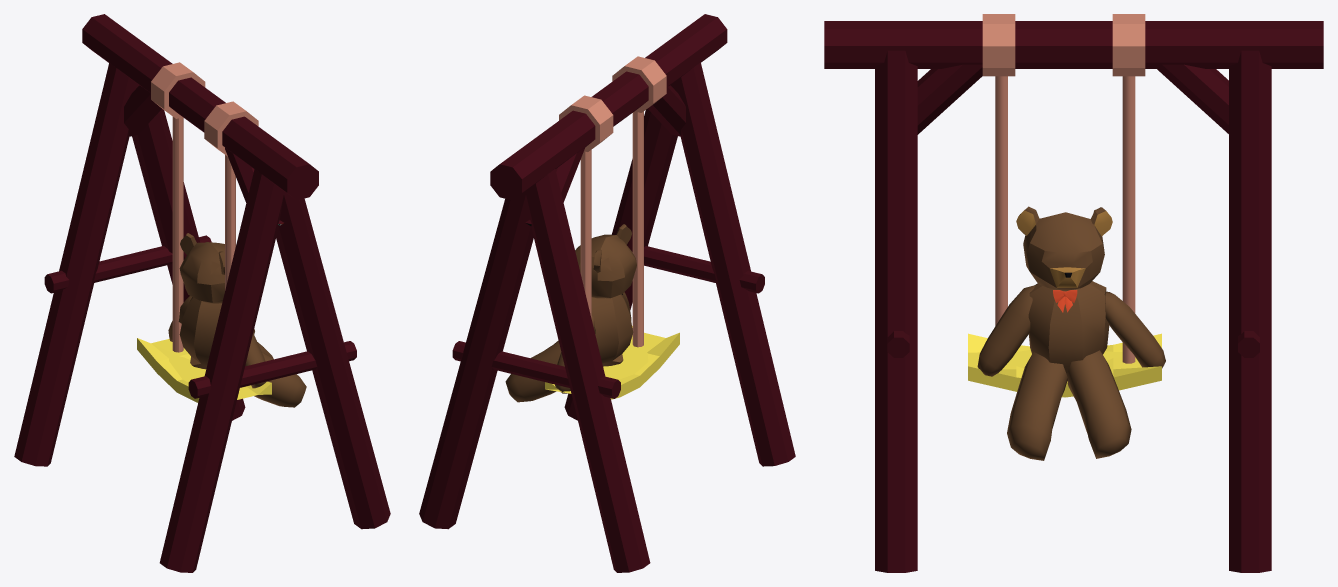
The model's file is hangman (swingman) models 2.0 .fbx.
3 renders of one model, left to right at view 1: azimuth 30°, elevation 25°; view 2: azimuth 150°, elevation 25°; view 3: azimuth 270°, elevation 25°, orthographic. The views are drawn at different scales.
Visible parts, largest first — view 1: nr.2 suport plank, nr.3 suport plank, nr.1 suport plank, nr.7 upper plank, nr.12 bear, nr.10 rope .001, nr.4 suport plank, nr.11 seat, nr.5 suport lower side, nr.6 suport lower side, nr.9 support side, nr.8 support side; view 2: nr.3 suport plank, nr.2 suport plank, nr.4 suport plank, nr.7 upper plank, nr.10 rope .001, nr.12 bear, nr.1 suport plank, nr.11 seat, nr.6 suport lower side, nr.5 suport lower side, nr.8 support side, nr.9 support side; view 3: nr.12 bear, nr.1 suport plank, nr.4 suport plank, nr.7 upper plank, nr.10 rope .001, nr.11 seat, nr.8 support side, nr.9 support side.
Boxes of the visible parts, box(x1,y1,x2,y2) form: nr.2 suport plank: box(159, 169, 284, 572); nr.3 suport plank: box(14, 63, 138, 466); nr.1 suport plank: box(276, 190, 390, 529); nr.7 upper plank: box(82, 14, 318, 200); nr.12 bear: box(168, 233, 306, 407); nr.10 rope .001: box(151, 62, 258, 352); nr.4 suport plank: box(132, 109, 245, 420); nr.11 seat: box(137, 338, 271, 402); nr.5 suport lower side: box(188, 341, 356, 398); nr.6 suport lower side: box(44, 235, 211, 293); nr.9 support side: box(124, 85, 161, 136); nr.8 support side: box(225, 148, 283, 225); nr.3 suport plank: box(525, 169, 650, 572); nr.2 suport plank: box(671, 62, 795, 466); nr.4 suport plank: box(419, 190, 533, 529); nr.7 upper plank: box(490, 14, 727, 200); nr.10 rope .001: box(559, 56, 666, 347); nr.12 bear: box(505, 224, 636, 402); nr.1 suport plank: box(564, 85, 677, 420); nr.11 seat: box(545, 326, 679, 399); nr.6 suport lower side: box(452, 341, 620, 398); nr.5 suport lower side: box(644, 246, 764, 293); nr.8 support side: box(648, 85, 685, 136); nr.9 support side: box(525, 147, 585, 225); nr.12 bear: box(977, 206, 1165, 460); nr.1 suport plank: box(875, 50, 917, 572); nr.4 suport plank: box(1229, 50, 1271, 572); nr.7 upper plank: box(824, 21, 1323, 68); nr.10 rope .001: box(982, 14, 1145, 363); nr.11 seat: box(968, 333, 1161, 397); nr.8 support side: box(917, 64, 982, 134); nr.9 support side: box(1157, 64, 1228, 133).
Size of the model in its own units: 510 by 888 by 809.
